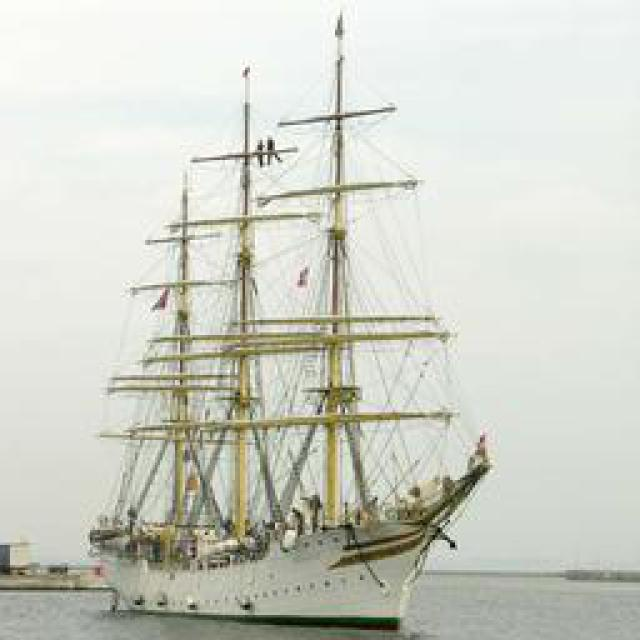Ship: (87, 1, 490, 631)
